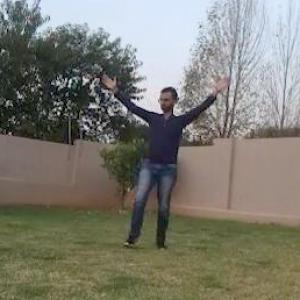takeoff: (100, 78, 227, 246)
